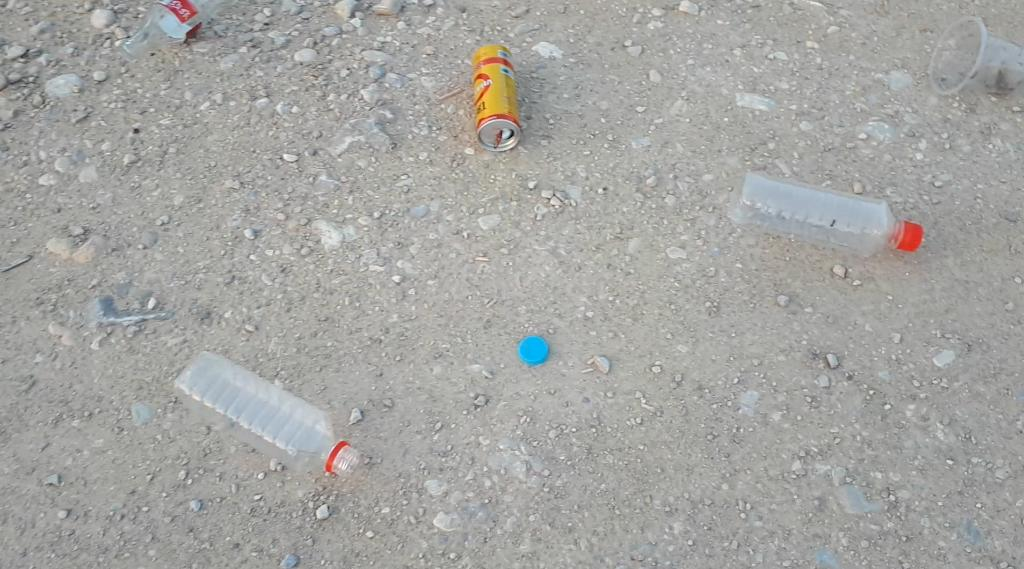garbage: (709, 151, 932, 278), (163, 349, 365, 484), (172, 352, 359, 476), (729, 170, 923, 258), (119, 1, 239, 63), (466, 42, 526, 161), (473, 44, 521, 152)
